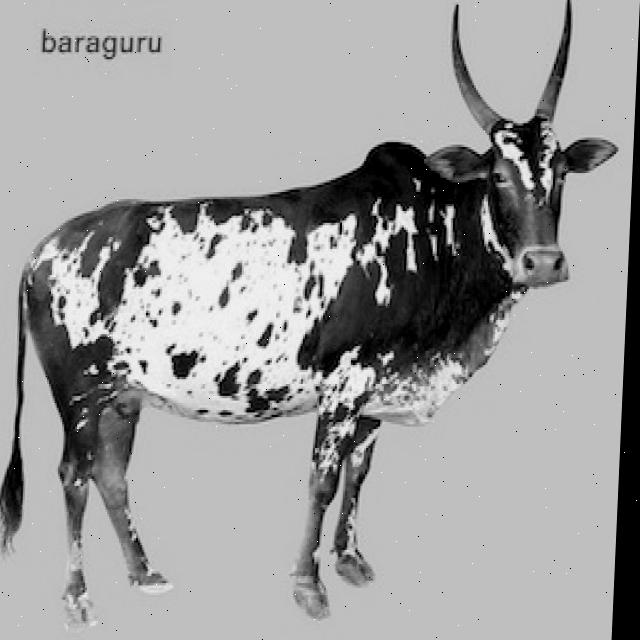Cow: (0, 0, 625, 631)
